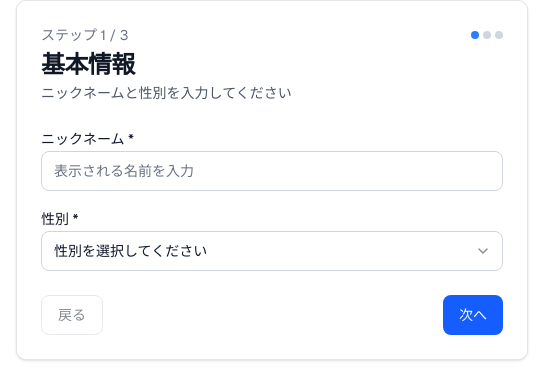
Test: ProfileRegistrationForm › Stage 2 - 詳細情報 › 戻るボタンでステージ1に戻る
Type "テストユーザー" into the field labelled "ニックネーム *" at (272, 171), box [41, 151, 503, 191]
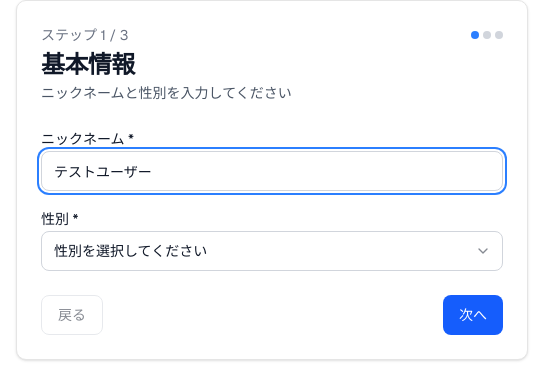
Select "男性" in the dropdown labelled "性別 *" at (272, 251), box [41, 231, 503, 271]
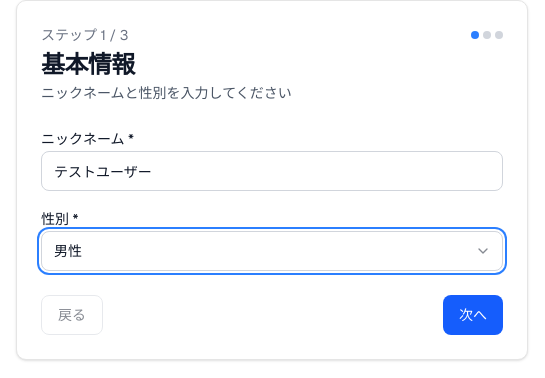
Click the button "次へ" at (473, 315), box [443, 295, 503, 335]
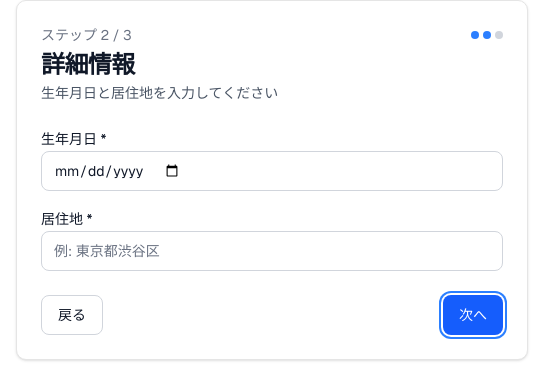
Expected: the heading "詳細情報" is shown, [41, 49, 135, 80]
Click the button "戻る" at (72, 315), box [41, 295, 103, 335]
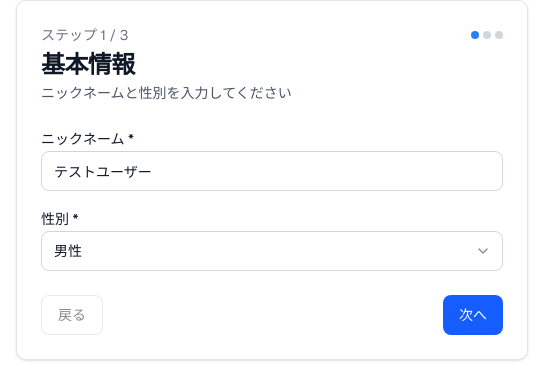
Expected: the heading "基本情報" is shown, [41, 49, 135, 80]
